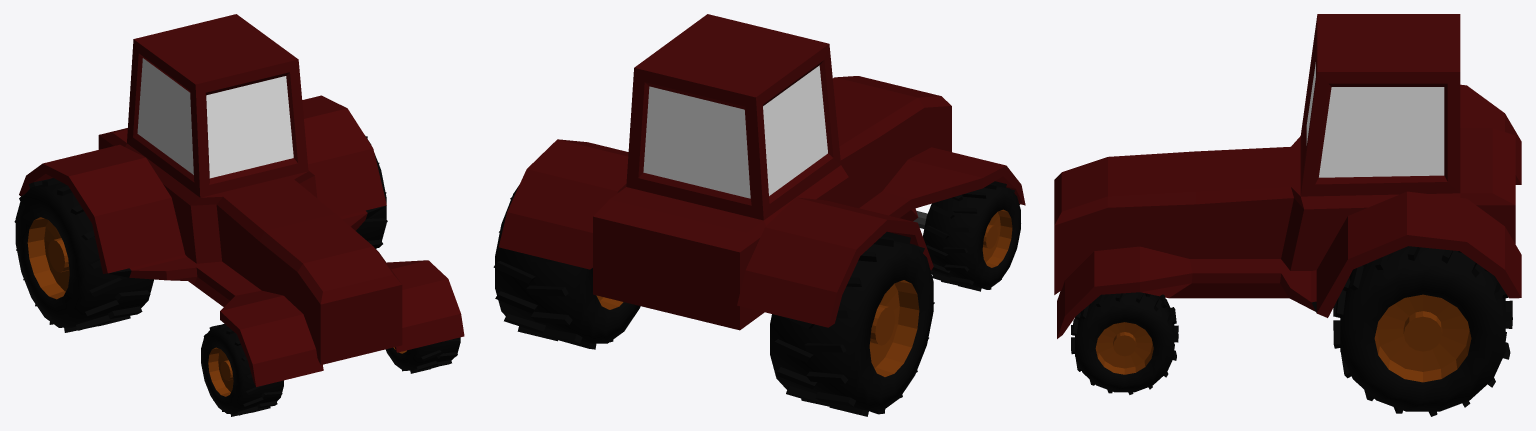
The model's file is tractor.fbx.
3 renders of one model, left to right at view 1: azimuth 30°, elevation 25°; view 2: azimuth 150°, elevation 25°; view 3: azimuth 270°, elevation 25°, orthographic. The views are drawn at different scales.
Parts seen in each view (by area): view 1: tractor; view 2: tractor; view 3: tractor.
Boxes of the visible parts, left/top/right/bottom form: tractor: left=14, top=14, right=464, bottom=416; tractor: left=493, top=14, right=1025, bottom=416; tractor: left=1054, top=14, right=1521, bottom=416.
Size of the model in its own units: 1086 by 866 by 1253.
